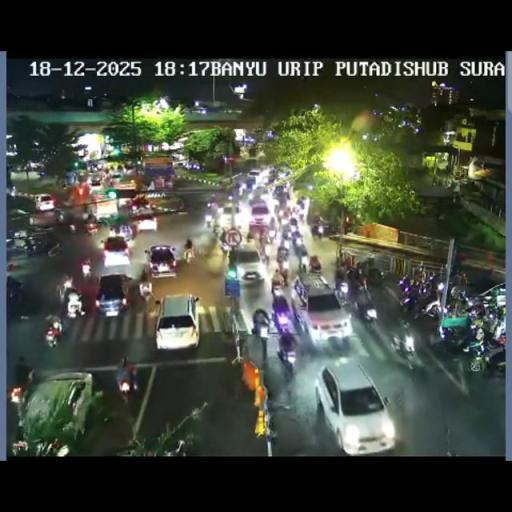Car: (315, 360, 395, 454), (20, 371, 95, 450), (296, 274, 348, 346), (154, 294, 200, 351), (94, 273, 132, 316), (234, 244, 266, 285), (142, 194, 184, 220), (146, 244, 178, 278), (102, 236, 132, 266), (90, 194, 119, 221), (248, 202, 272, 234), (109, 220, 133, 241), (134, 211, 158, 231), (265, 166, 289, 184), (33, 194, 56, 211), (90, 173, 102, 185), (109, 172, 123, 182), (248, 168, 261, 178)
Motorcycle: (398, 270, 440, 316), (463, 327, 504, 374), (438, 314, 474, 352), (57, 274, 84, 318), (390, 328, 418, 366), (276, 332, 298, 371), (252, 308, 269, 358), (271, 290, 292, 329), (354, 289, 378, 323), (10, 421, 30, 456), (8, 379, 30, 407), (44, 315, 63, 347), (116, 371, 134, 402), (6, 276, 24, 307), (463, 298, 488, 320), (6, 237, 27, 261), (449, 284, 471, 306), (162, 438, 187, 457), (334, 278, 350, 306), (34, 439, 58, 457), (138, 280, 154, 306), (276, 252, 290, 278), (46, 242, 64, 258), (294, 238, 307, 260), (274, 202, 288, 222), (287, 222, 301, 241), (258, 230, 272, 248), (271, 277, 285, 295), (308, 254, 322, 272), (24, 237, 37, 256), (310, 222, 325, 238), (278, 235, 292, 252), (182, 244, 194, 263), (454, 271, 468, 287), (259, 246, 270, 266), (219, 236, 231, 254), (85, 220, 98, 236), (54, 208, 66, 224), (96, 215, 110, 228), (204, 210, 214, 228), (358, 274, 368, 292), (413, 264, 423, 282), (211, 222, 222, 238), (140, 266, 150, 283), (296, 208, 306, 223), (82, 262, 91, 278), (268, 217, 277, 233), (206, 198, 218, 209), (67, 222, 77, 234), (246, 229, 255, 242), (299, 260, 307, 274), (238, 182, 246, 196), (7, 185, 16, 197), (227, 194, 234, 202)
